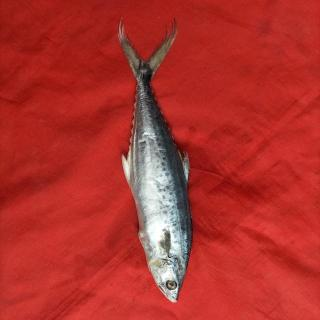Ikan: (111, 17, 205, 309)
